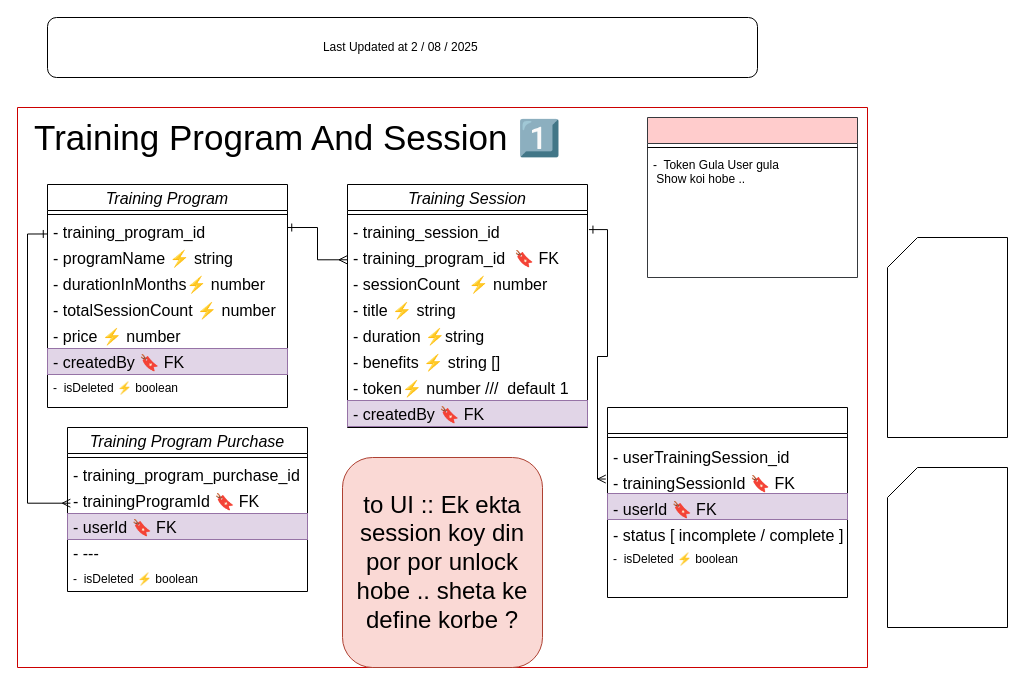
The diagram is 1025 pixels wide and 685 high, and some of its shapes have lost their labels. The box of each missing label's shape, as (x1, y1, x2, y2) in pixels:
ISSUE FIX ME: (646, 116, 858, 278)
Patient Training Session 🔰: (606, 406, 848, 598)
training session e creator er Id reference hishebe rakhbo kina chinta korte hobe: (886, 236, 1008, 438)
user je ekta token paise .. shetar track rakhte hobe: (886, 466, 1008, 628)
